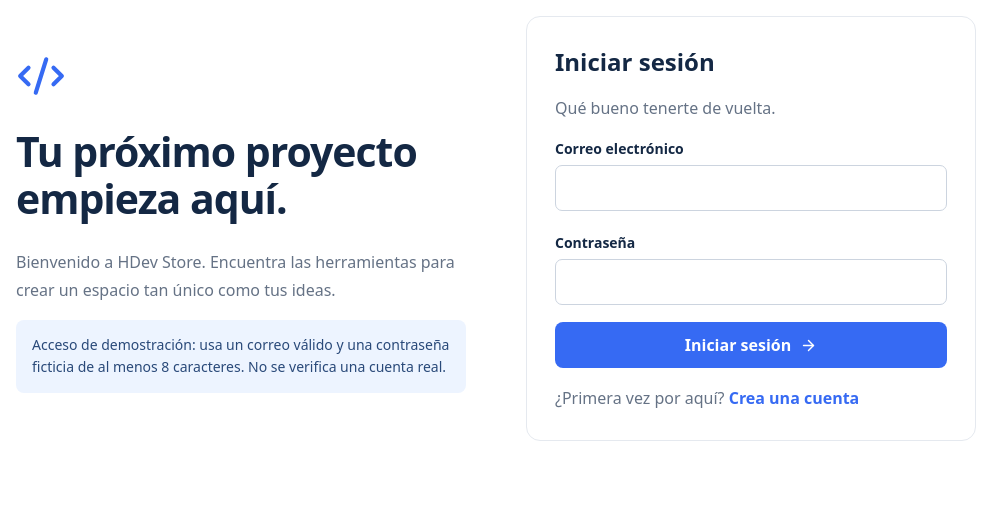
Test case: Login › renderiza formulario y valida campos obligatorios
The image size is (993, 526).
What coordinates should you click on to do the following:
click the button "Iniciar sesión"
I would click on:
 (751, 345)
Its box is [555, 322, 947, 368].
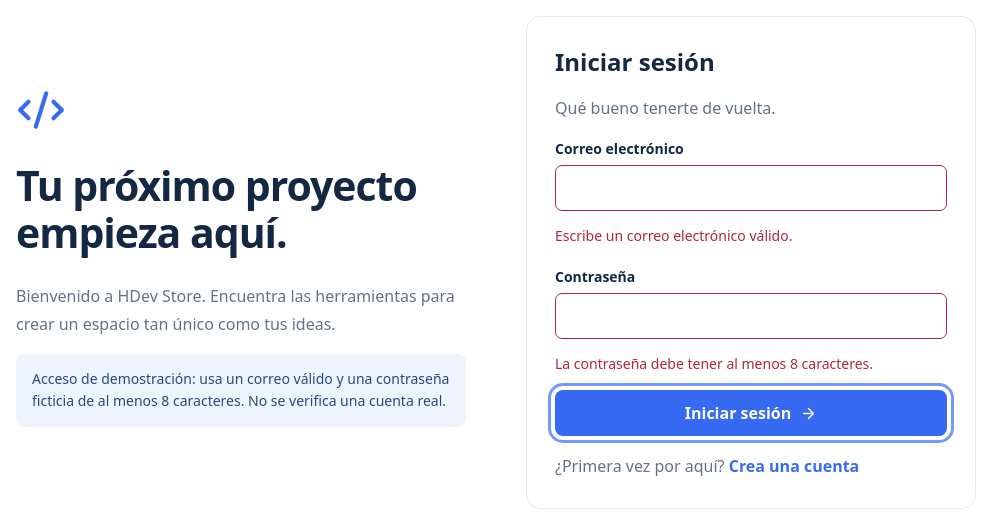
Result: the text "Escribe un correo electrónico válido." is shown at [555, 226, 792, 245]
Result: the text "La contraseña debe tener al menos 8 caracteres." is shown at [555, 354, 873, 373]
